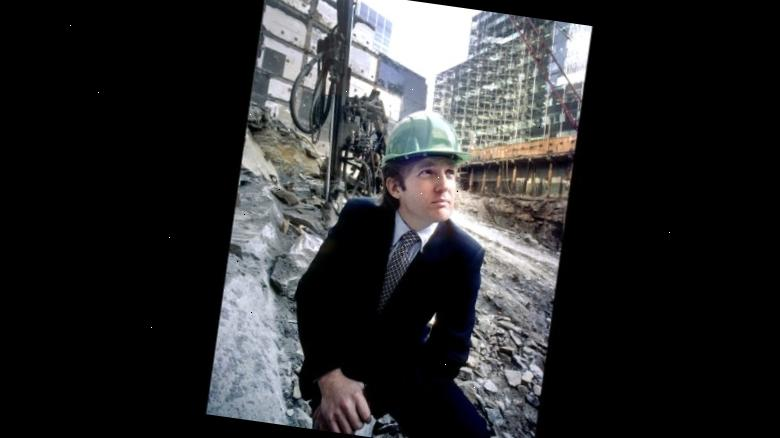helmet: (370, 100, 474, 177)
no_wear: (306, 201, 478, 430)
